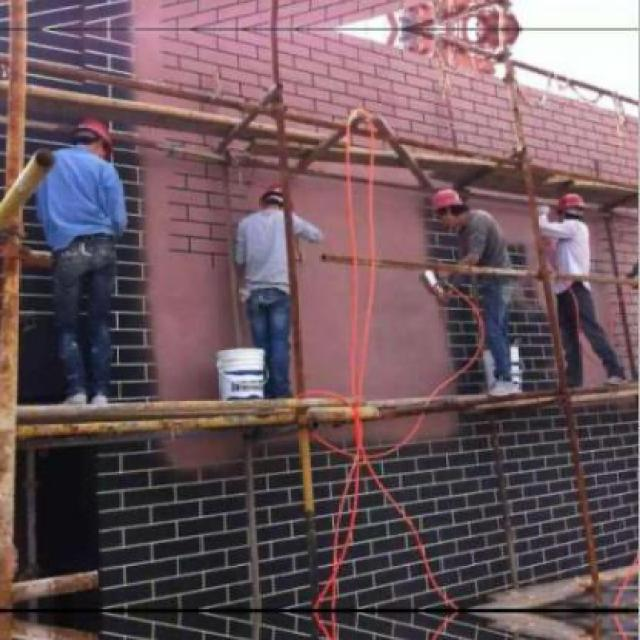con casco: (251, 172, 322, 240), (416, 180, 486, 244), (62, 109, 116, 180), (541, 184, 597, 233)
